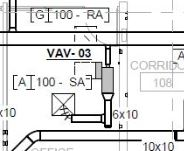VAV: (92, 60, 122, 100)
